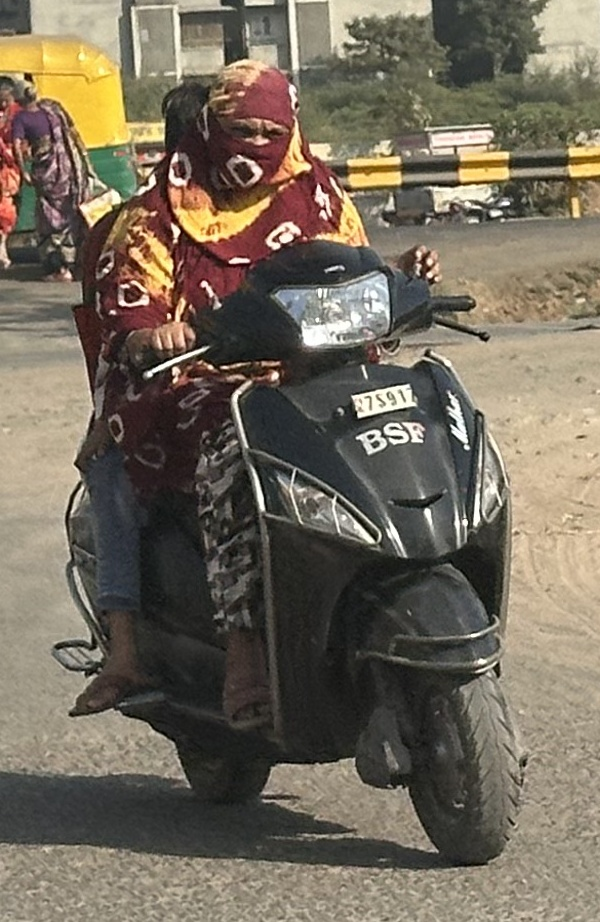BikeWithRider: (40, 47, 541, 873)
NoHelmet: (186, 52, 319, 198)
